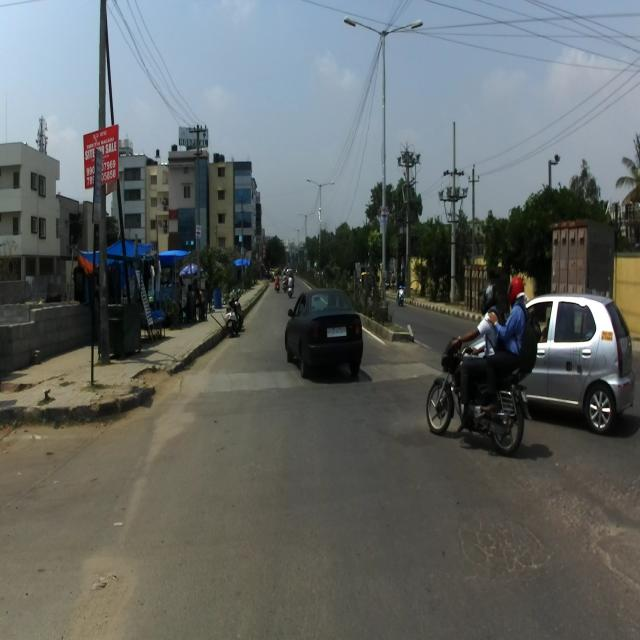Car: (284, 287, 363, 377)
Car_TATA: (458, 292, 635, 434)
motorcycle_bajaj: (426, 334, 531, 458)
scooter: (224, 289, 239, 338), (396, 284, 404, 306)
